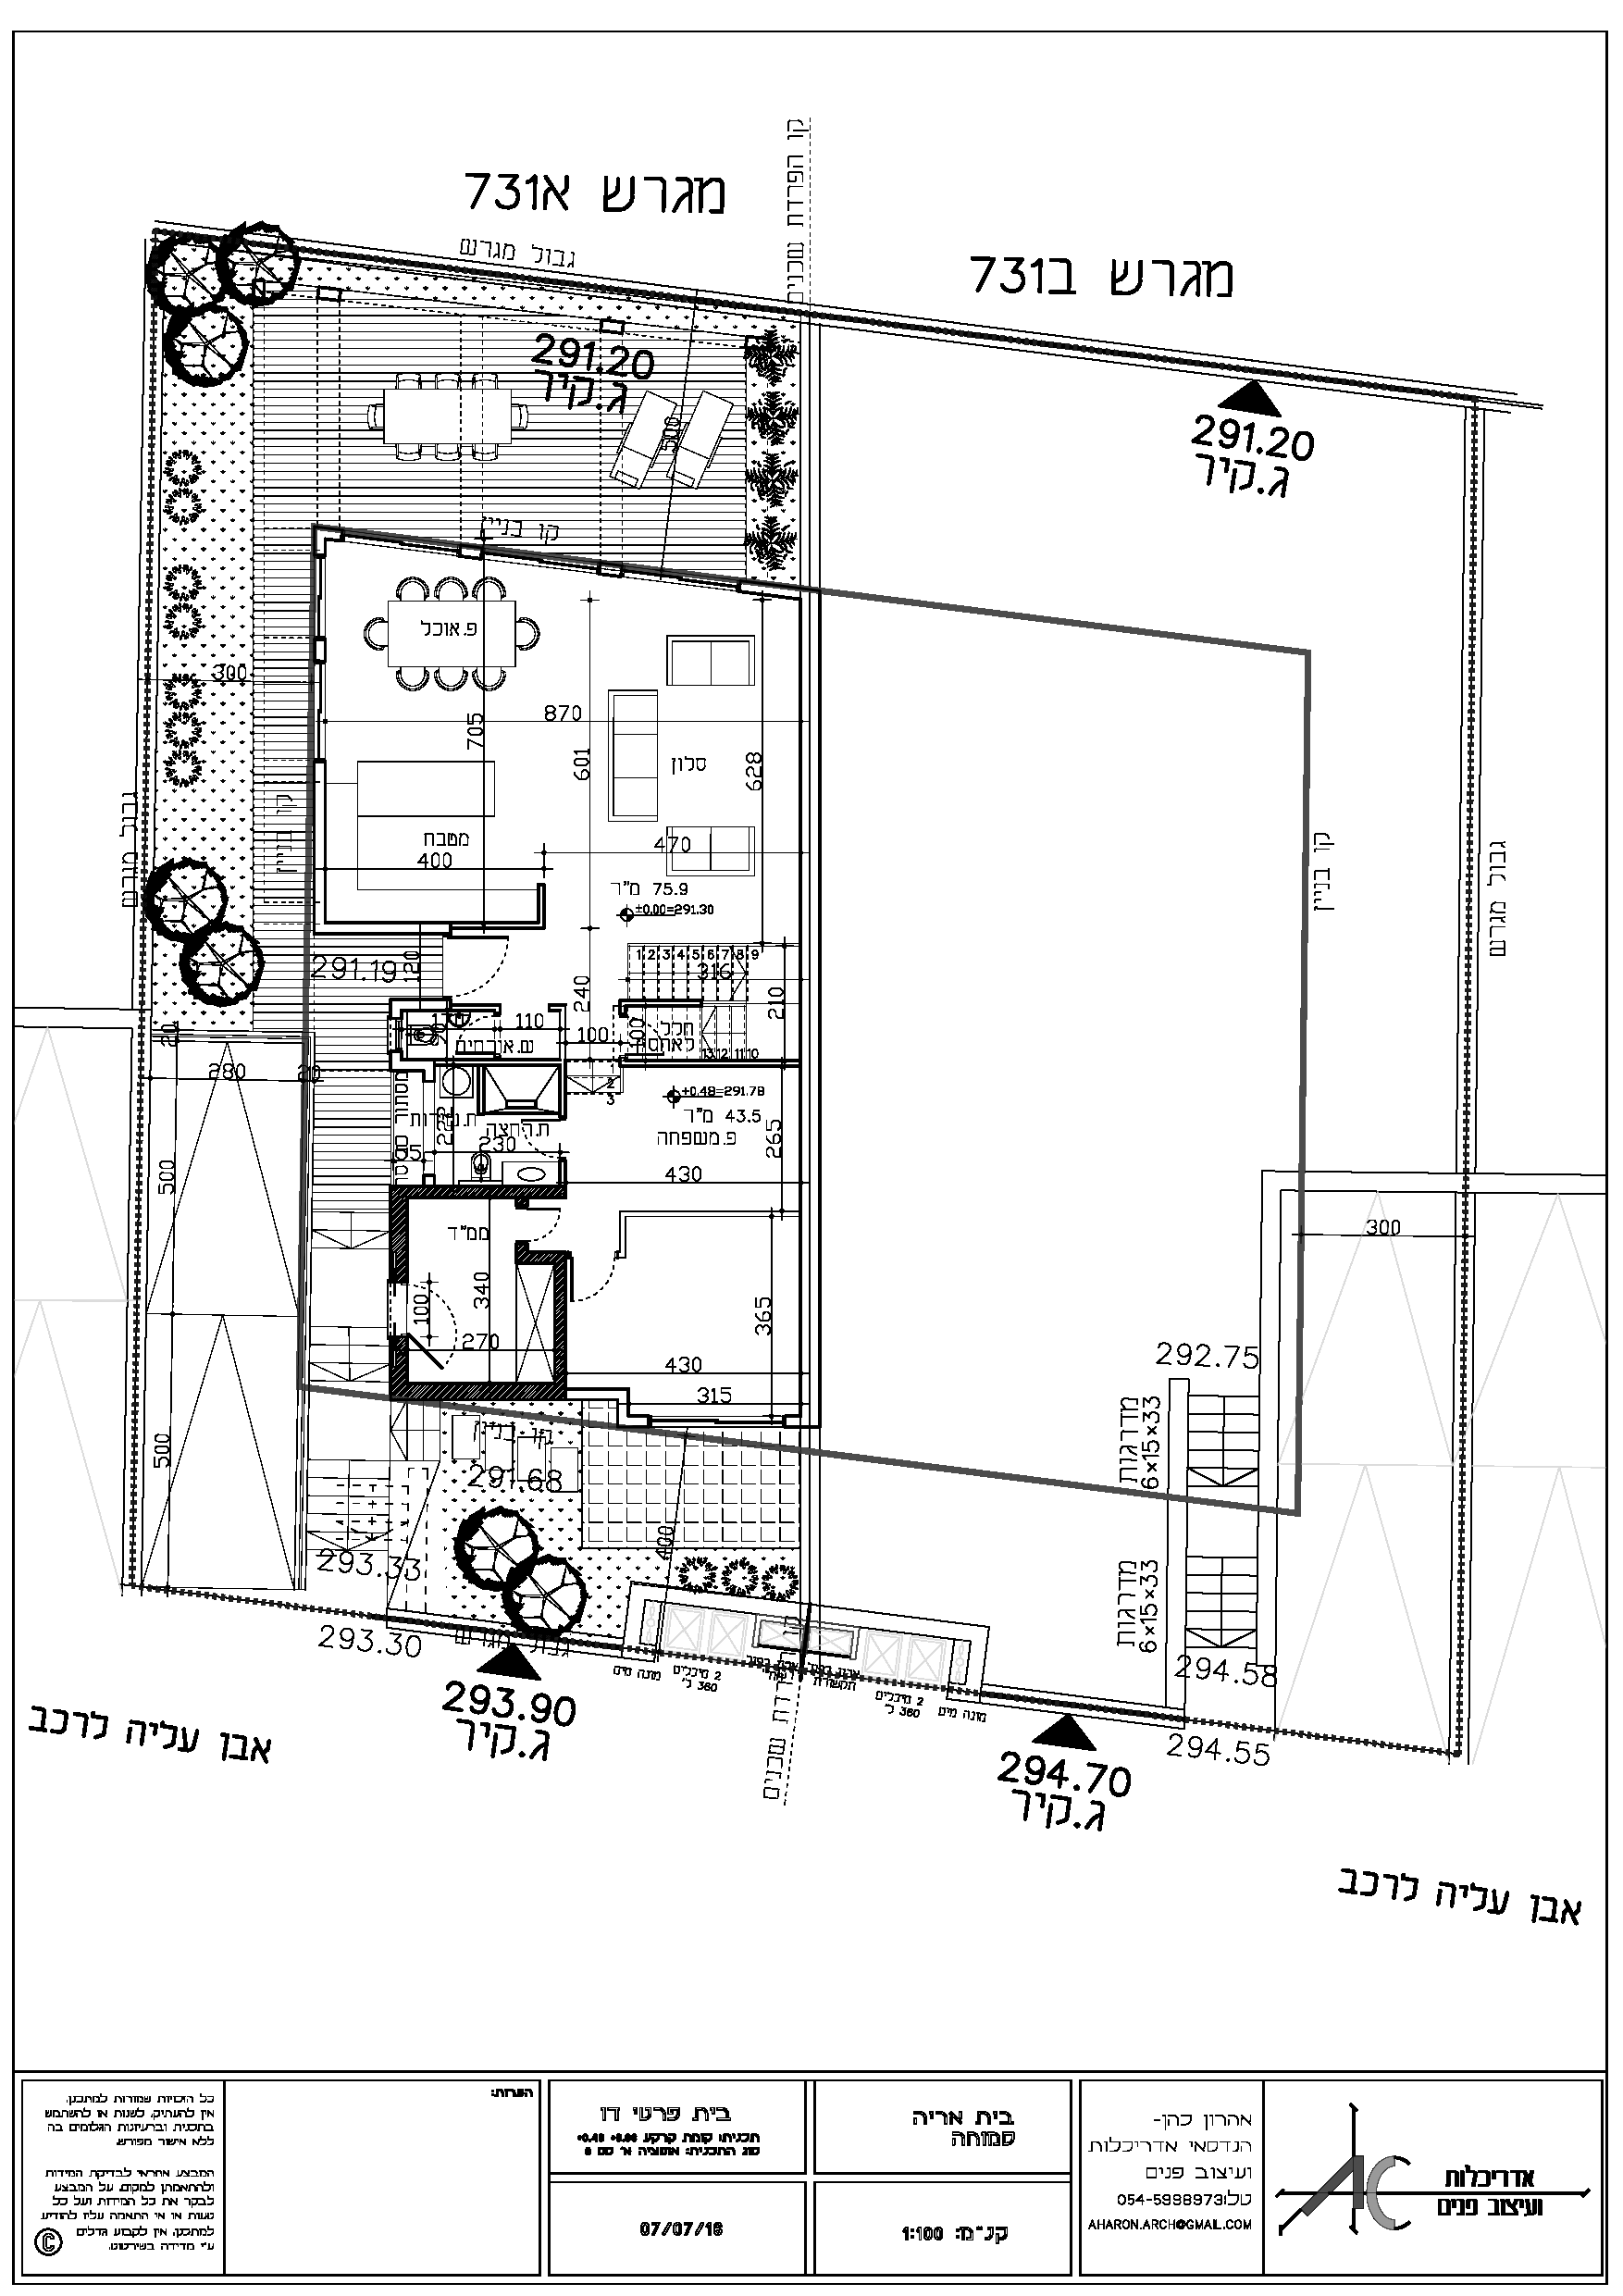door: (458, 933, 518, 996), (567, 1260, 622, 1305), (527, 1200, 564, 1245)
window: (646, 1409, 794, 1437), (313, 661, 327, 761), (311, 555, 327, 641)
